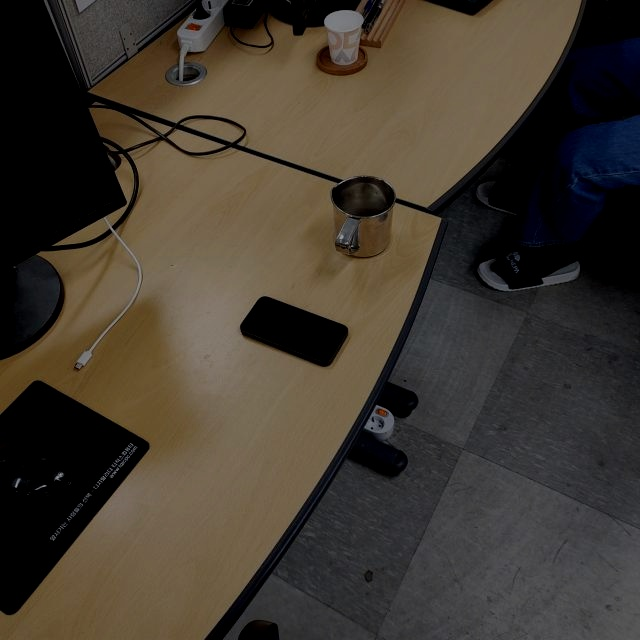cup: (329, 172, 395, 260)
phone: (241, 296, 348, 367)
